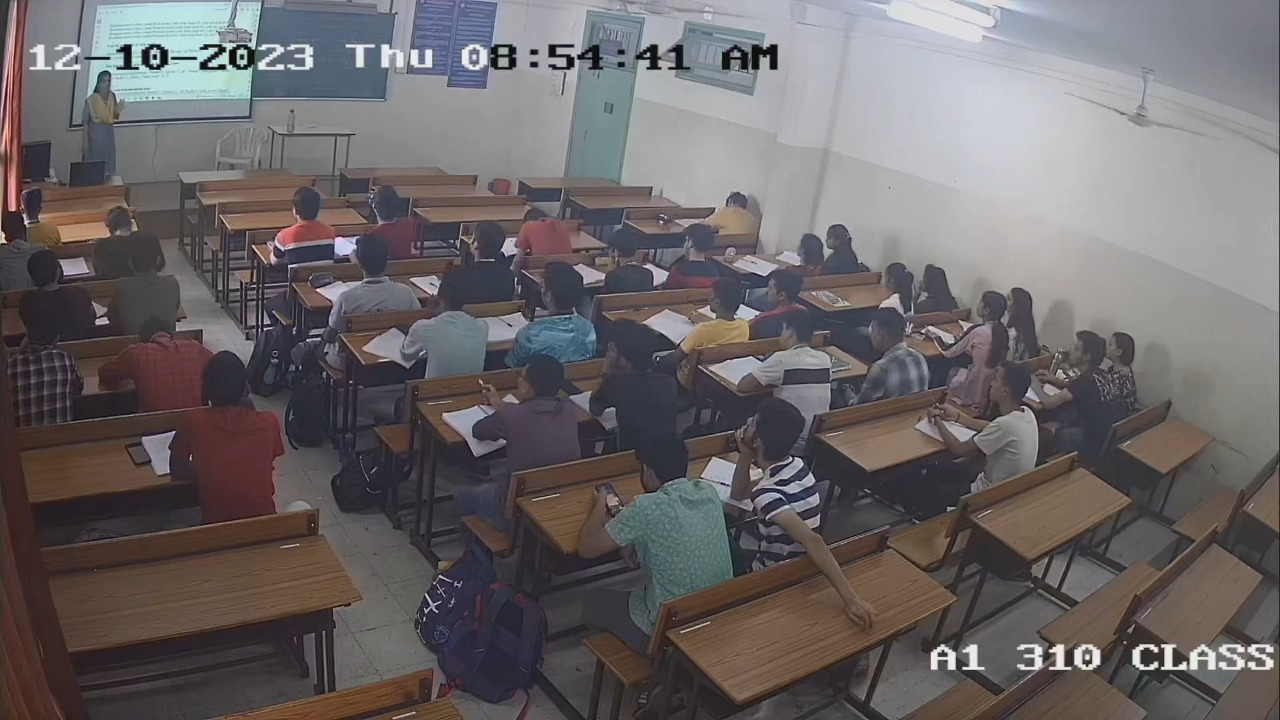cell-phones: (593, 481, 625, 518), (123, 440, 153, 468), (557, 375, 585, 396), (593, 254, 613, 268)
person: (580, 435, 732, 579), (168, 350, 285, 518), (590, 320, 674, 440), (604, 228, 654, 292)
